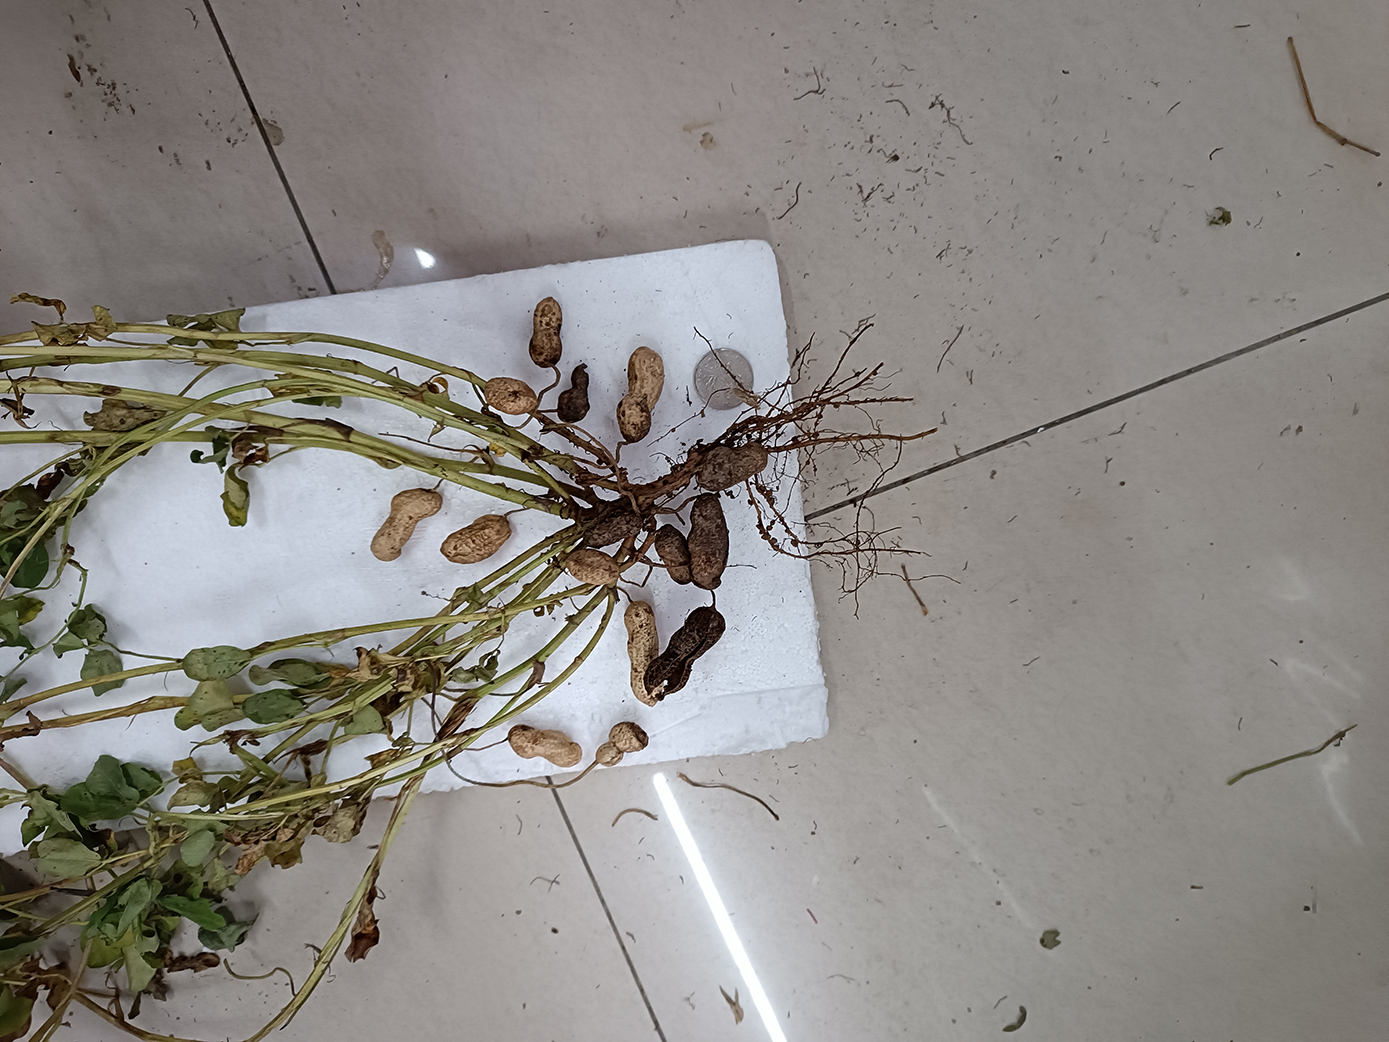h: (370, 488, 441, 561), (616, 345, 665, 442), (624, 601, 663, 707), (441, 516, 511, 566), (508, 723, 582, 767), (595, 722, 648, 766), (484, 378, 539, 414), (567, 549, 620, 584)
l: (645, 605, 726, 696), (687, 491, 729, 590), (695, 442, 769, 490), (526, 297, 563, 367), (582, 509, 637, 548), (655, 526, 691, 586), (556, 363, 591, 422)
